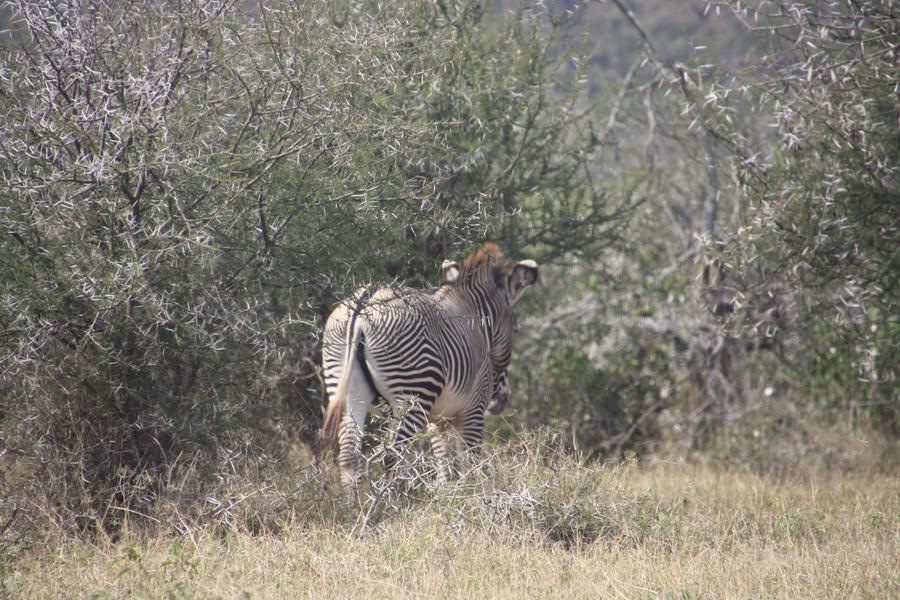zebra_grevys: (351, 269, 499, 397)
